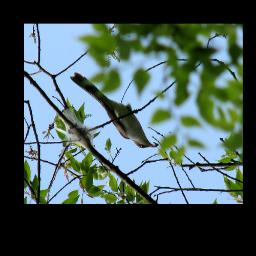Cuckoo: (70, 75, 157, 150)
